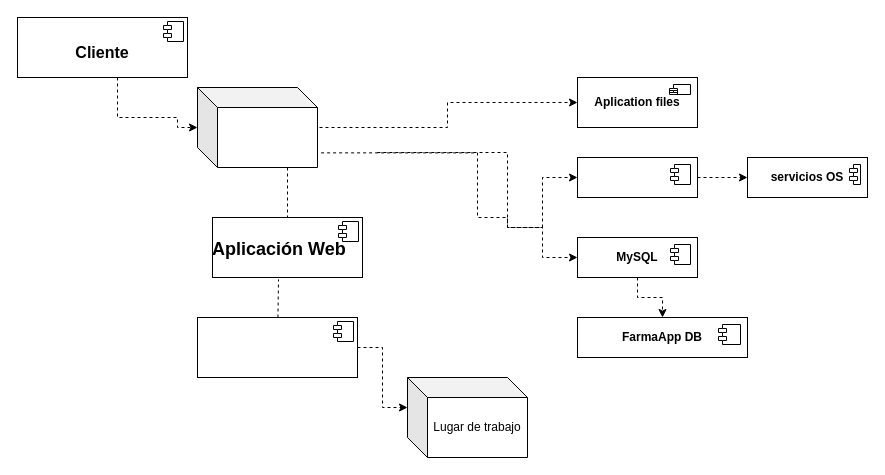
Some shapes in this 885 by 475 pixel diagram are drawn without their labels. Here are the shapes that lost their labels. From the top down, the centre of each, then its label:
the point at 257,127: SERVIDOR
the point at 637,177: Apache
the point at 277,347: navegador web
